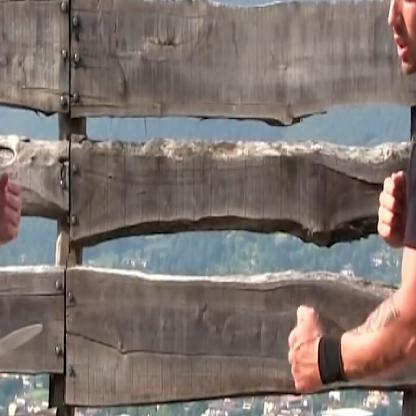knife: (0, 309, 53, 396)
